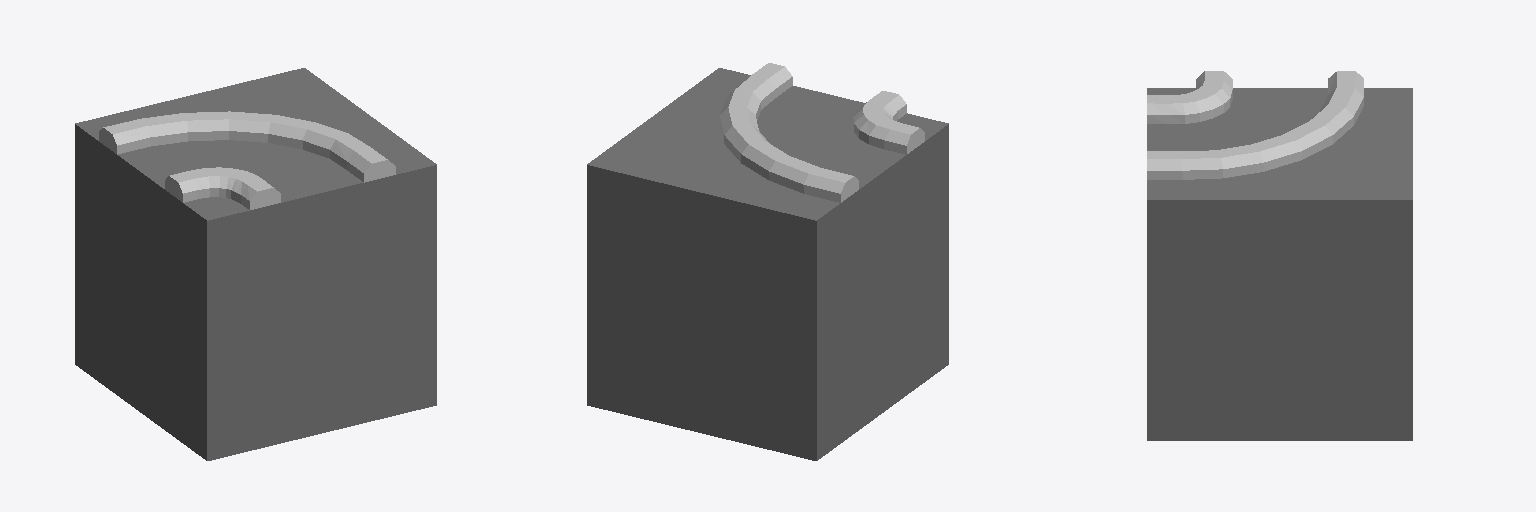
The model's file is LeftBlock.obj.
The picture shows the model from 3 angles: view 1: azimuth 30°, elevation 25°; view 2: azimuth 150°, elevation 25°; view 3: azimuth 270°, elevation 25°; orthographic projection.
Parts seen in each view (by area): view 1: polySurface23; view 2: polySurface23; view 3: polySurface23.
Part boxes in pixels (x1,y1,x2,y2): polySurface23: (75, 68, 436, 460); polySurface23: (587, 63, 948, 460); polySurface23: (1147, 71, 1412, 440).
Size of the model in its own units: 1 by 1.07 by 1.